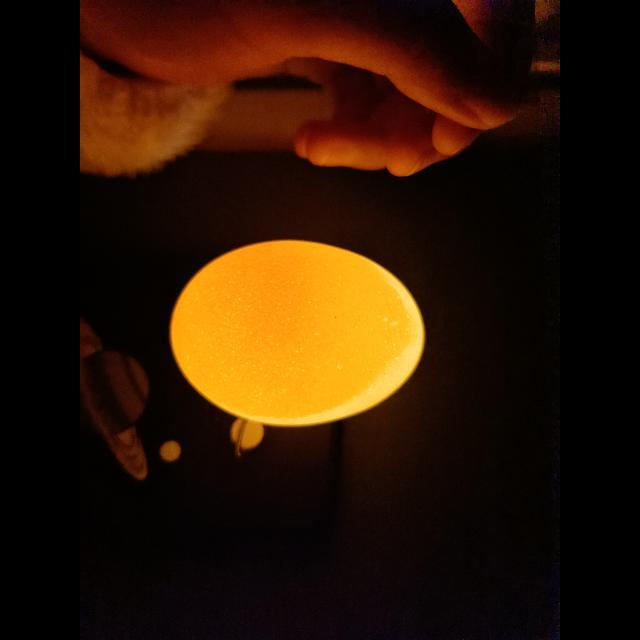AA - Premium: (170, 240, 424, 426)
